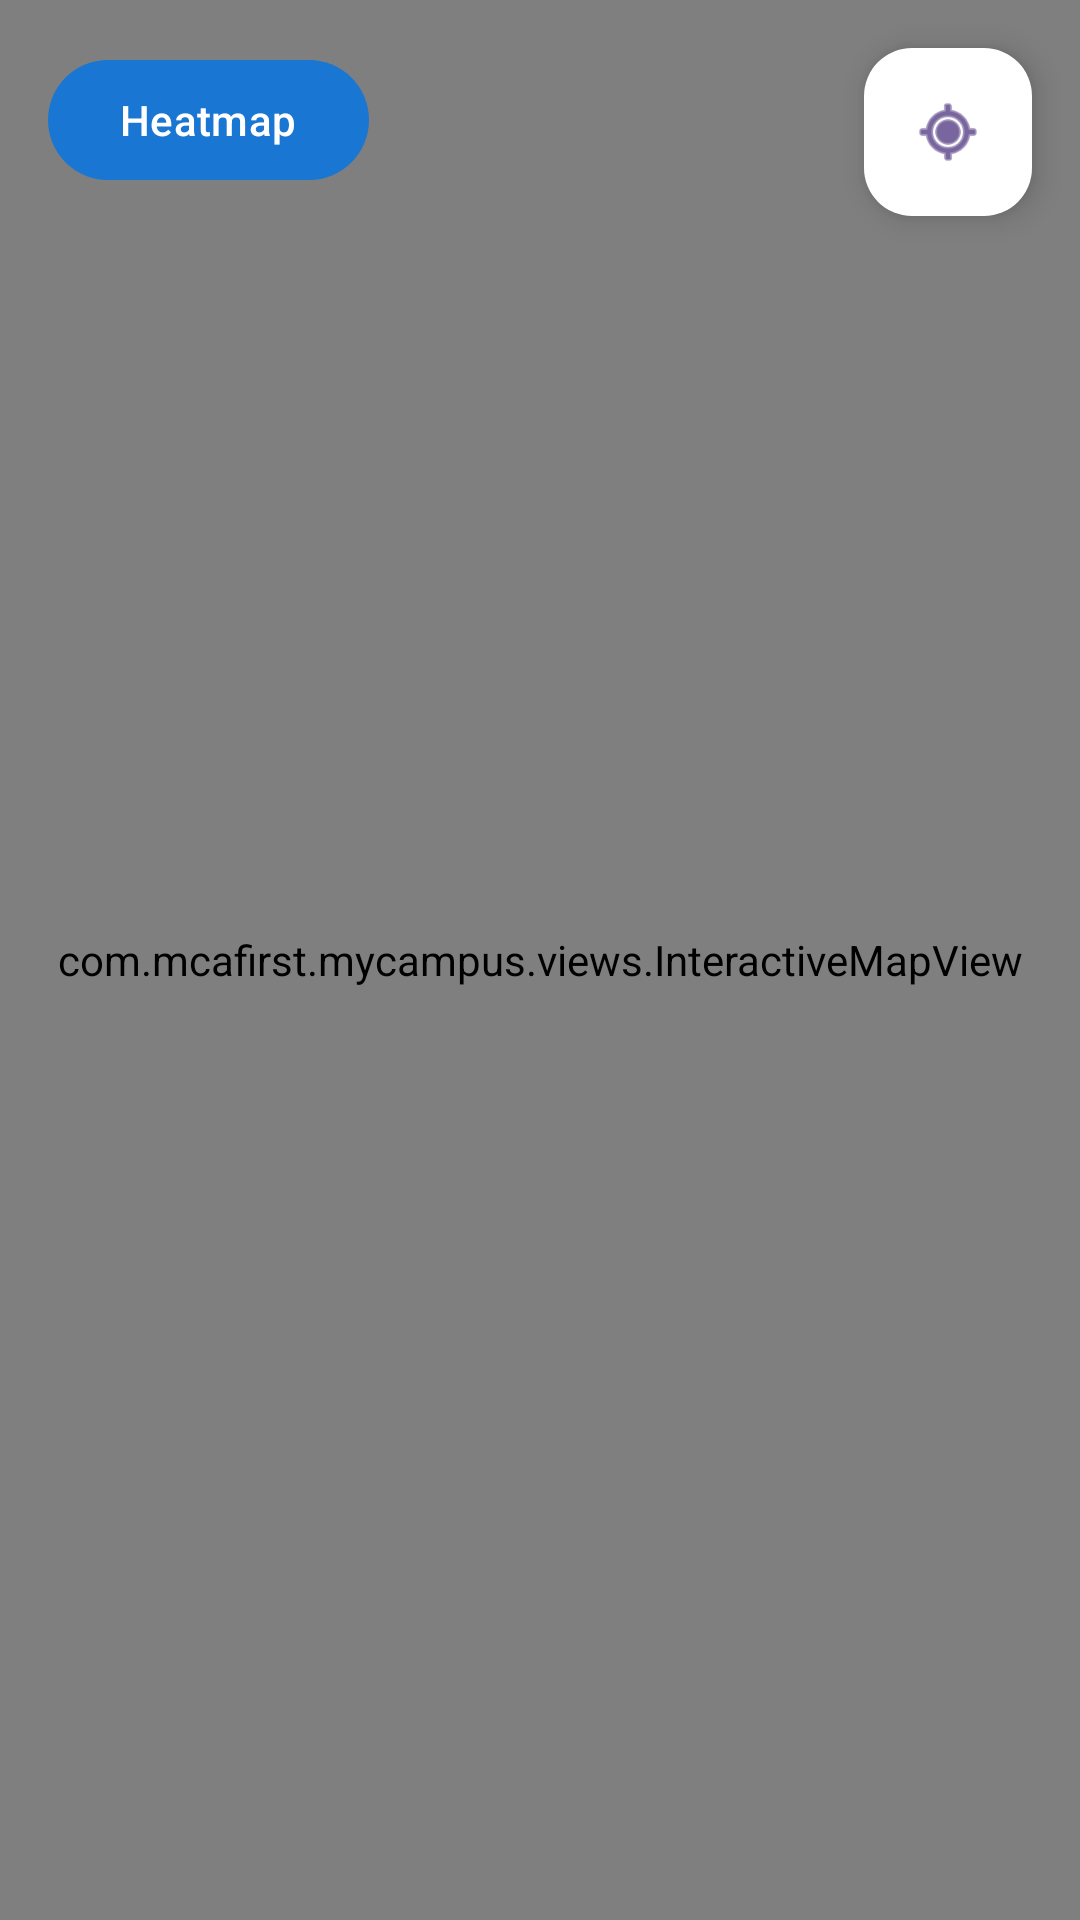

Where to tap for icons on this 1080px x 1920px app screen, as (x=x, y=y):
mylocation: (x=948, y=132)
